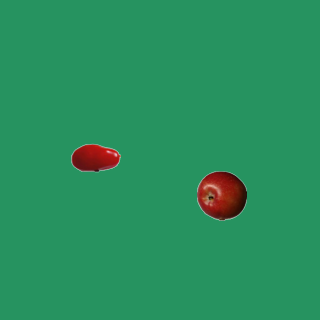Apple Braeburn: (196, 170, 246, 220)
Tomato 2: (70, 132, 120, 182)
